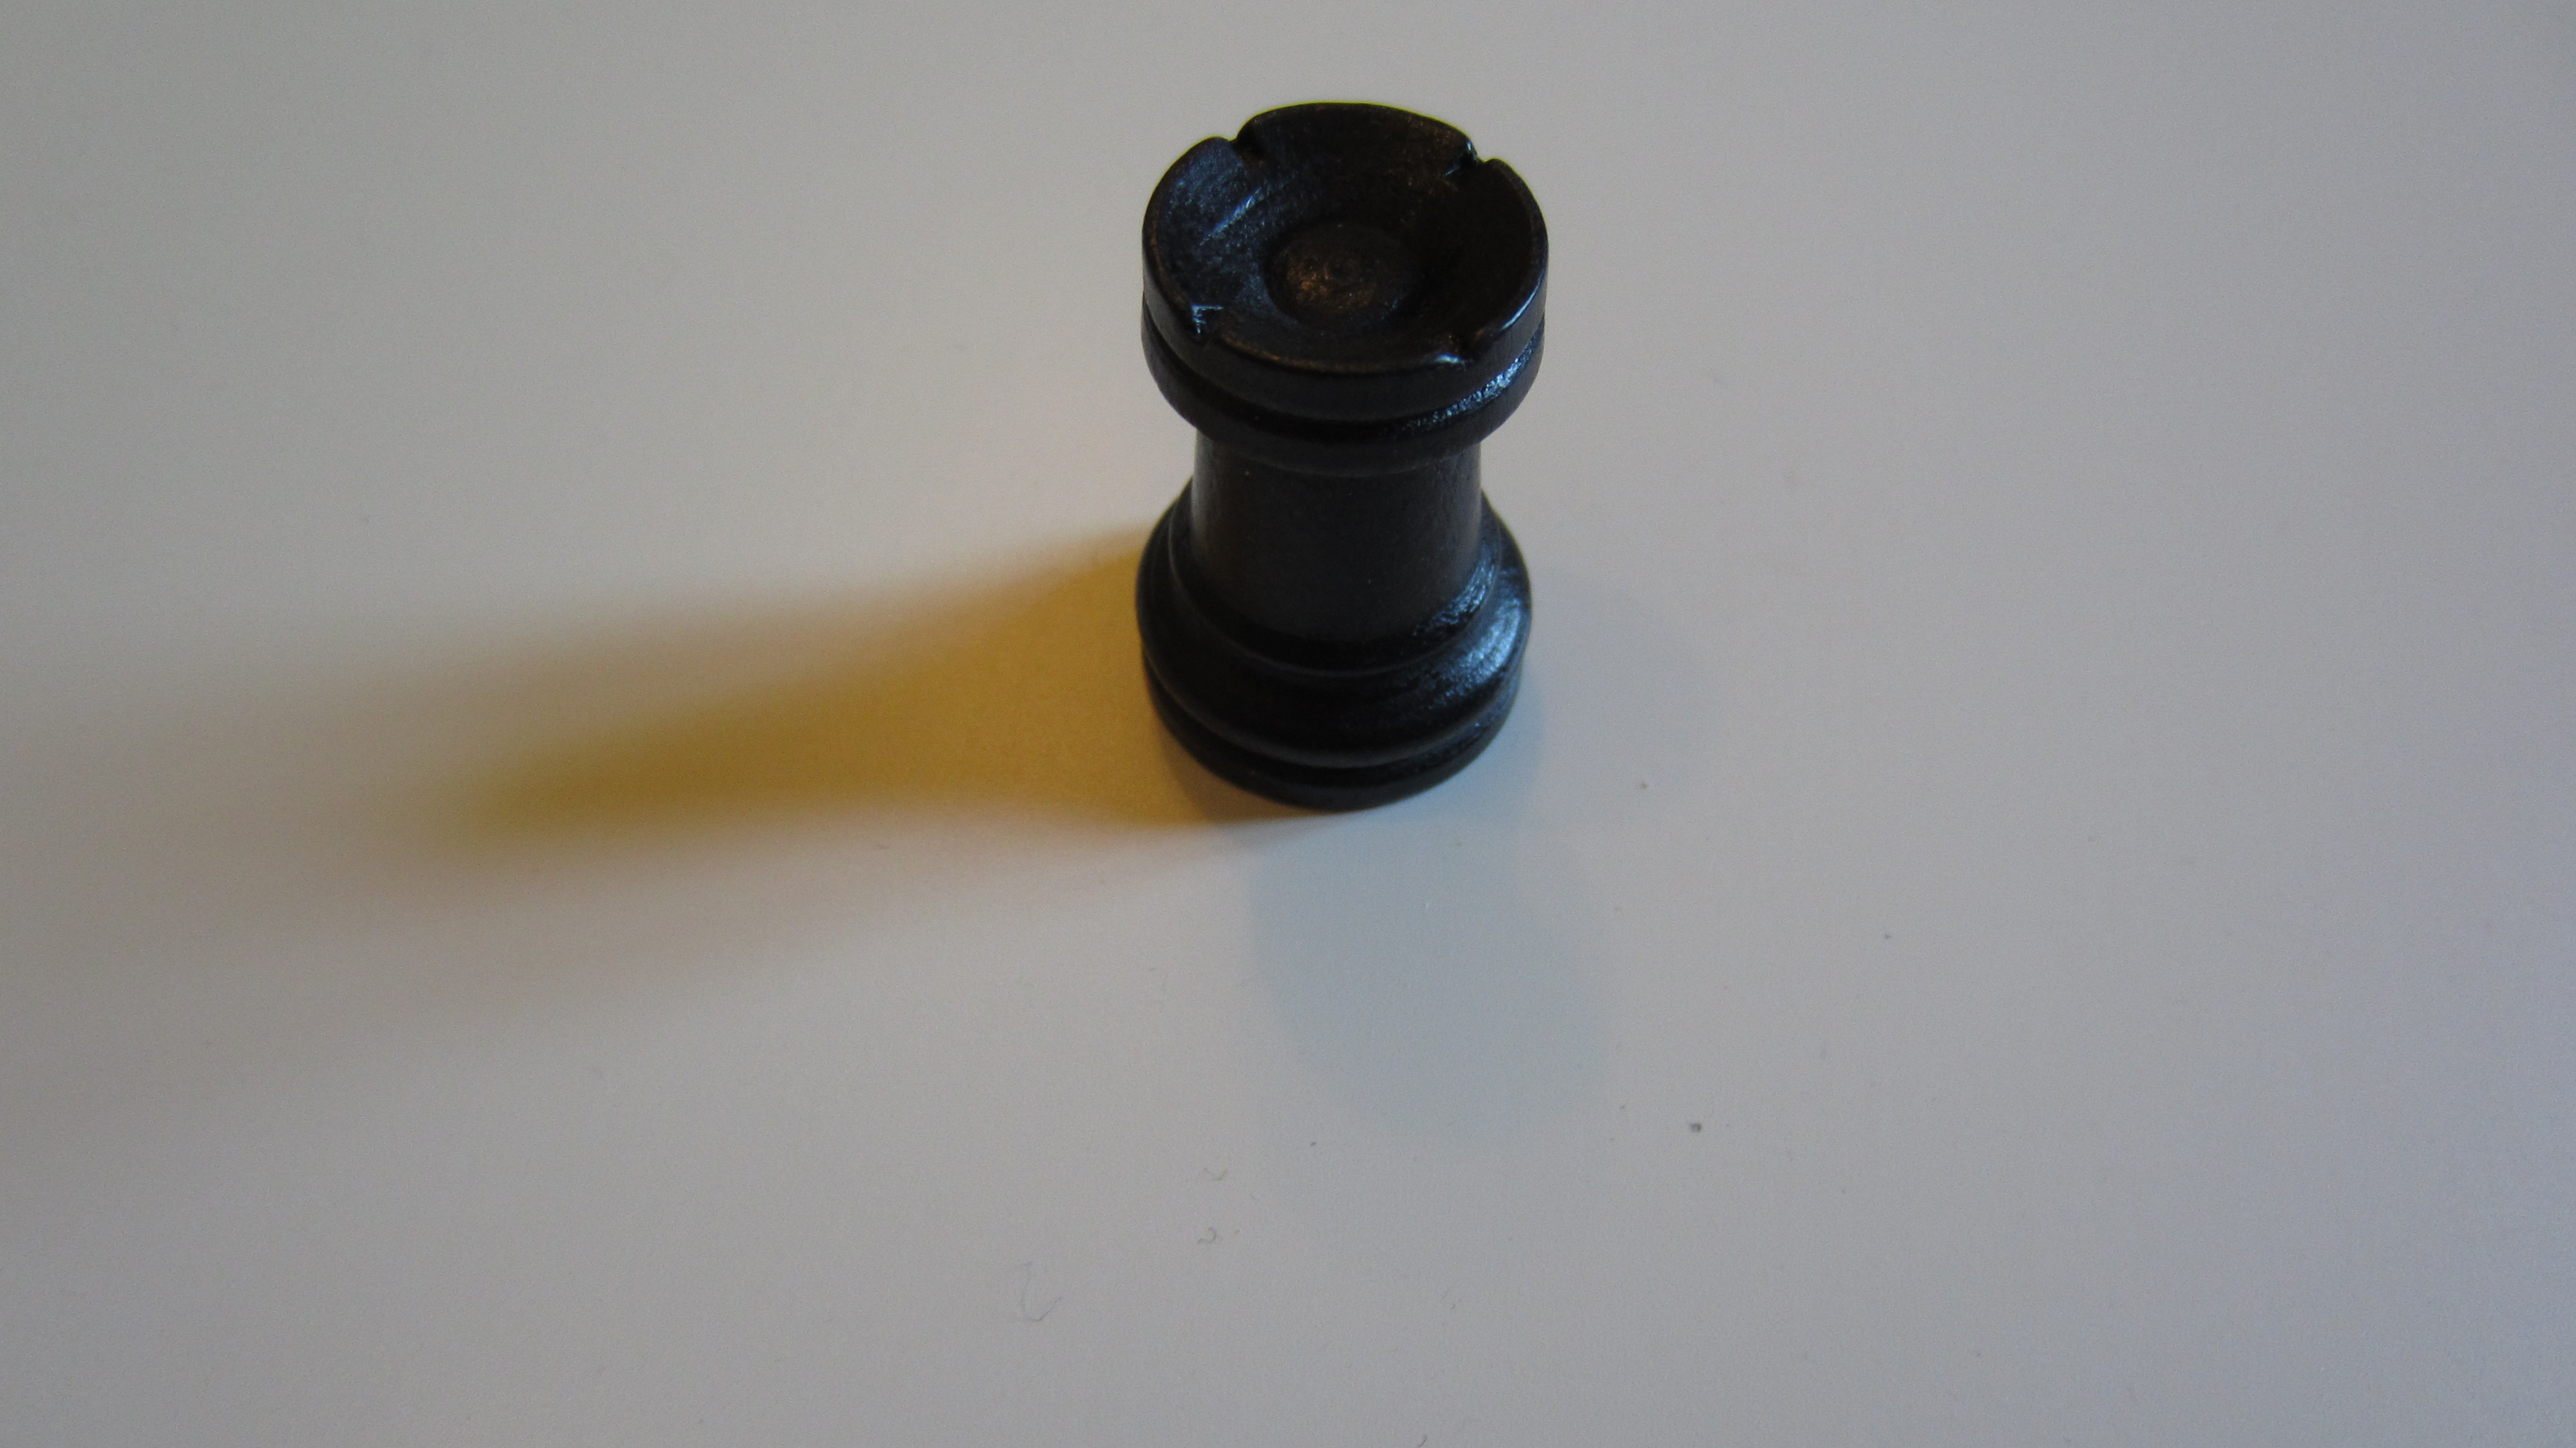black-rook: (1118, 94, 1562, 818)
